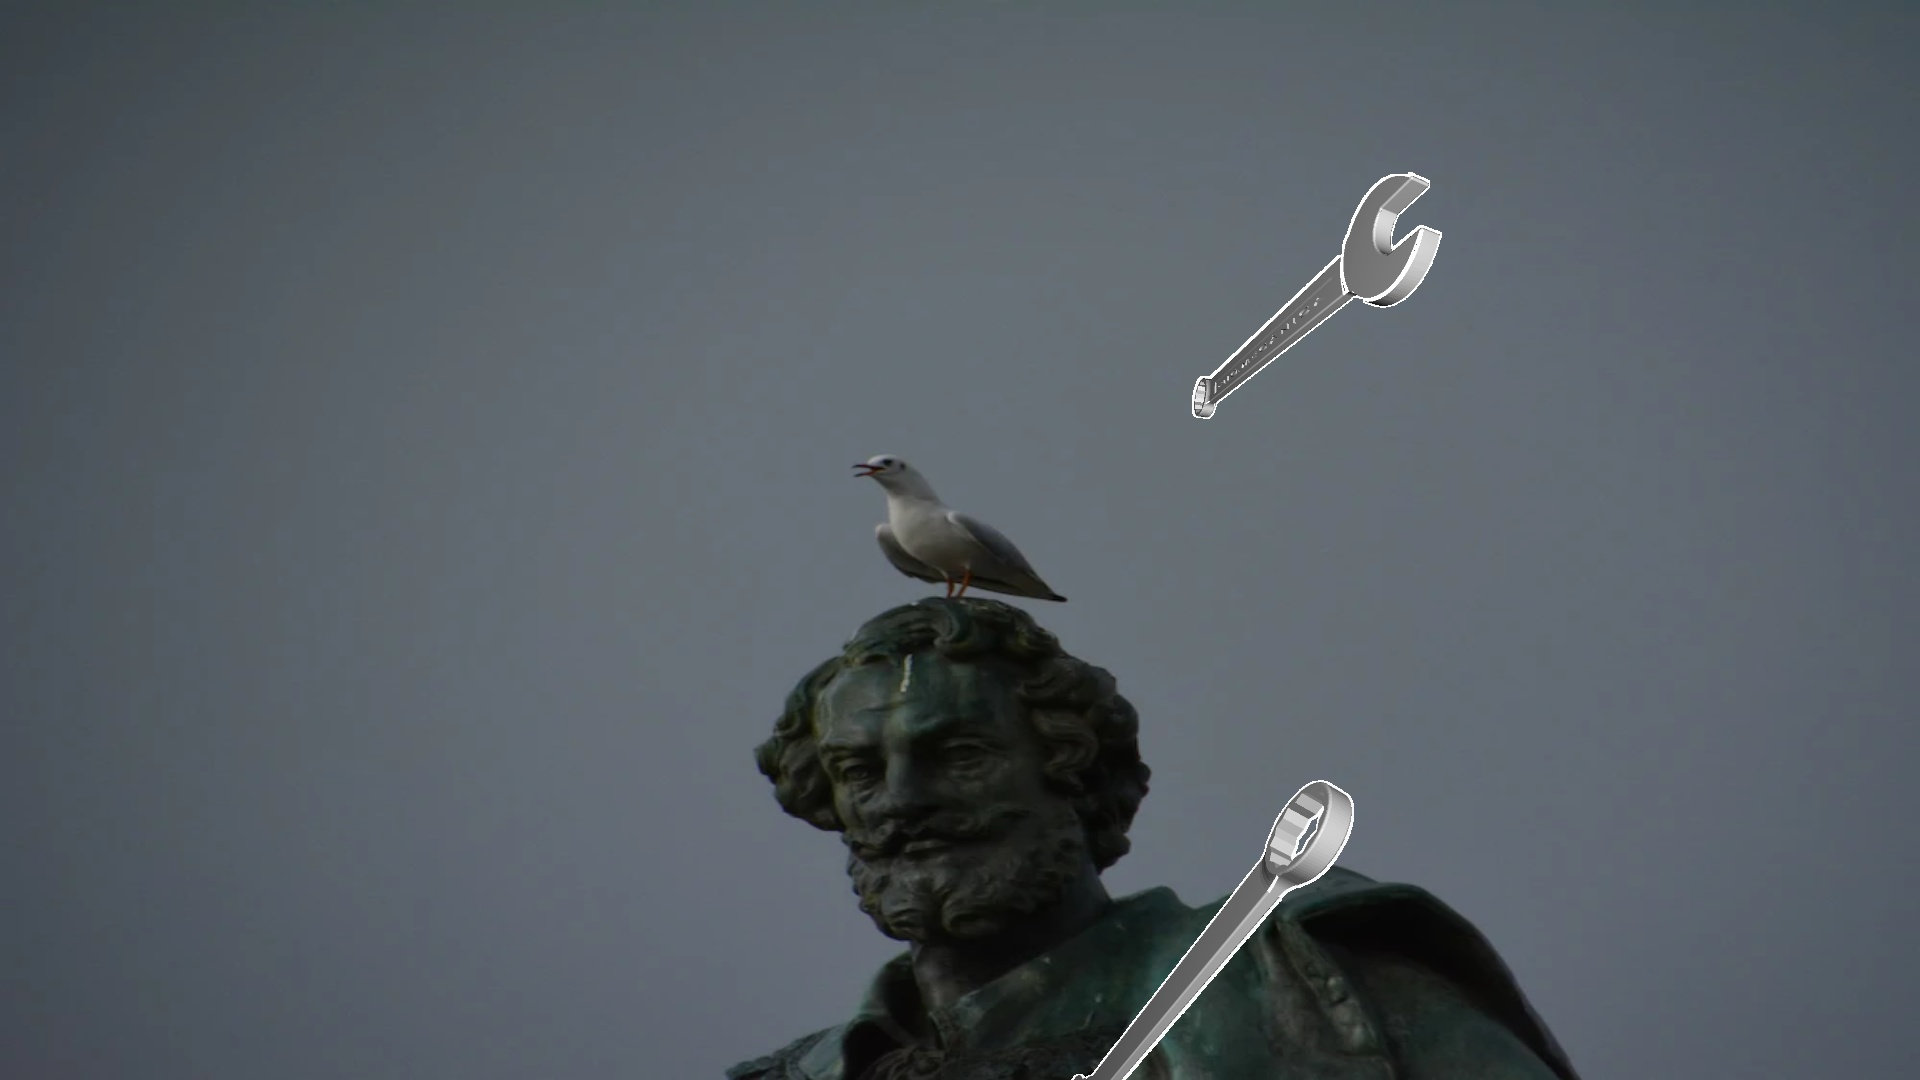Mixed Key: (1071, 781, 1353, 1079), (1192, 171, 1441, 418)
